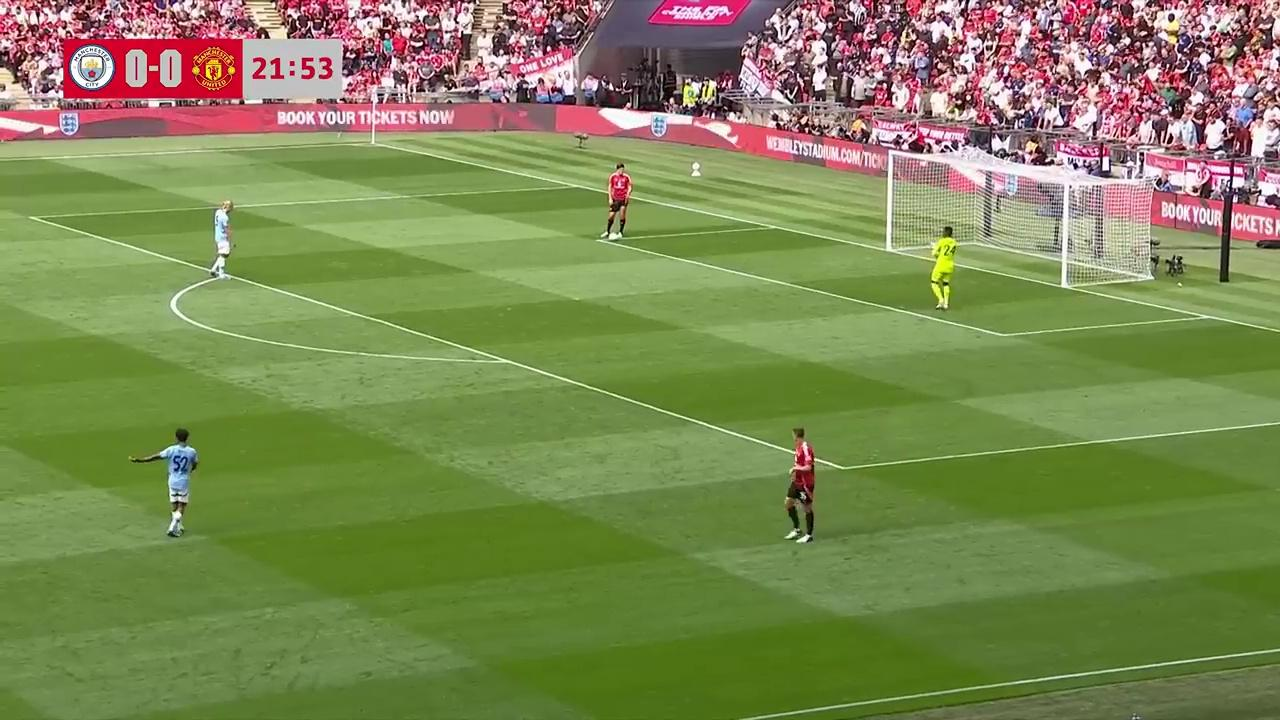player: (145, 427, 198, 538), (785, 426, 815, 541), (601, 161, 636, 239), (209, 194, 238, 280), (929, 227, 957, 311)
